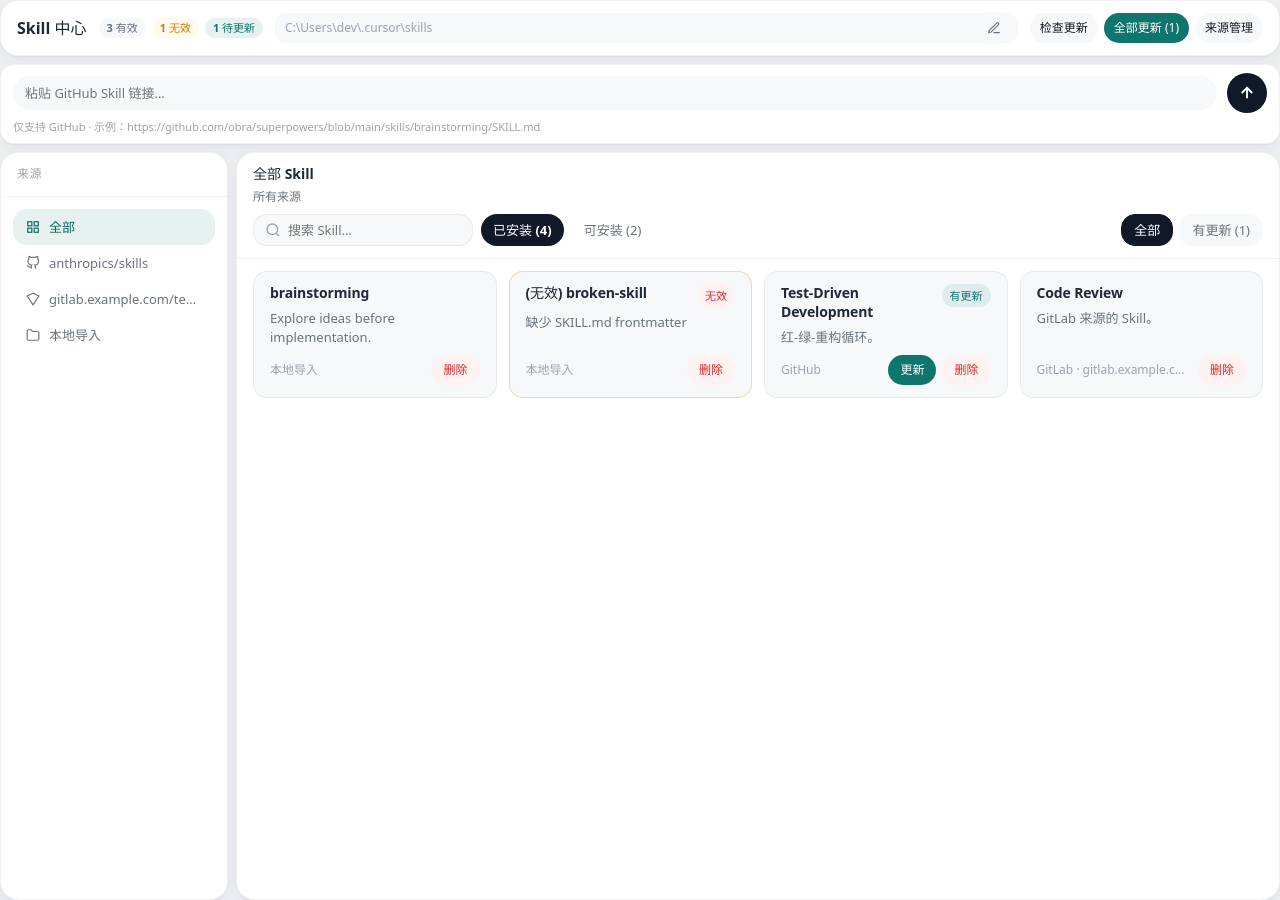
SkillHubPage › shows GitLab source with host on discover tab
The image size is (1280, 900).
Step 1. Click the tab "可安装 (2)" → click(612, 230), box [572,214,653,246]
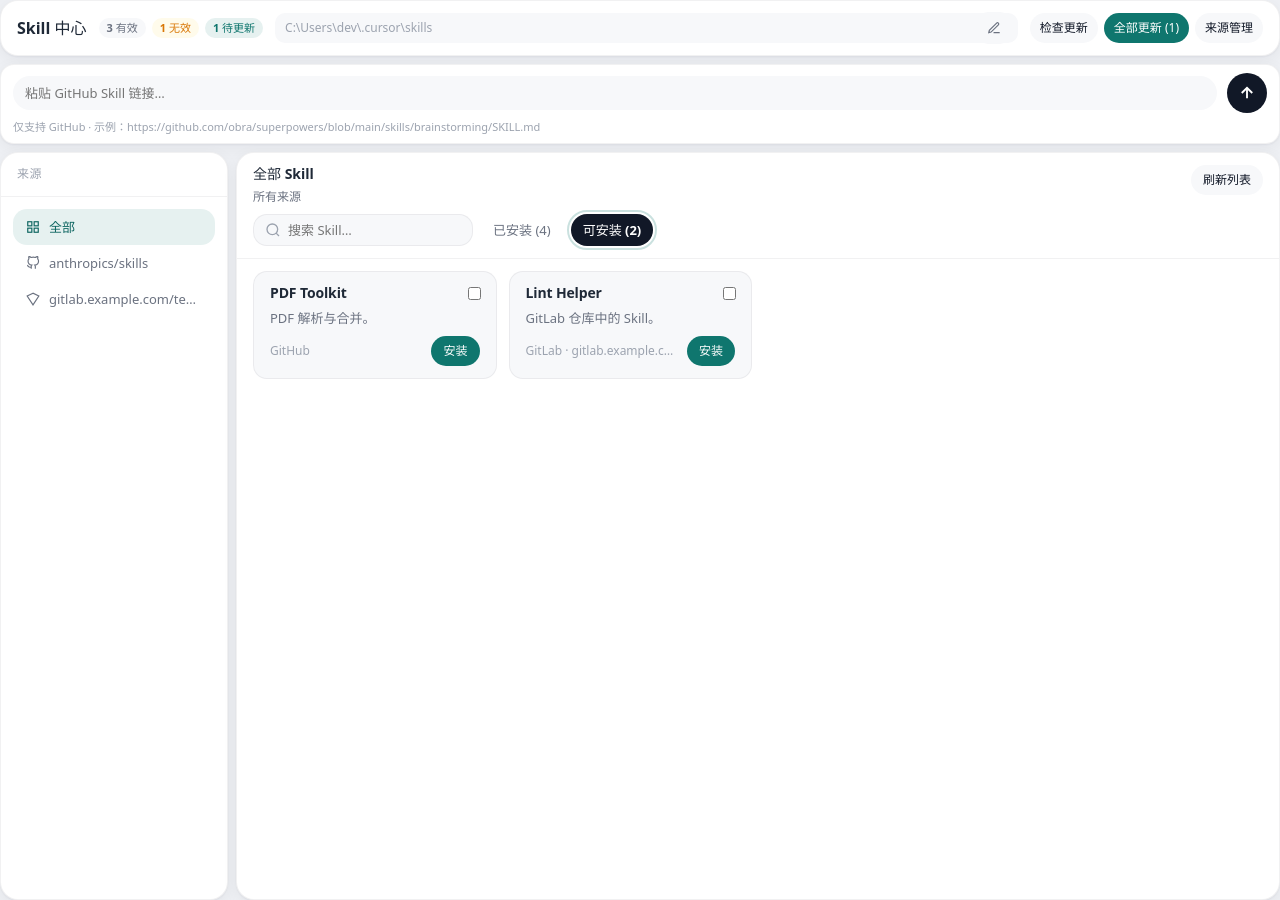
Expected: the text "GitLab · gitlab.example.com" is shown, [526,342,679,360]
Now the text "GitLab 仓库中的 Skill。" is shown, box [526,309,661,327]
